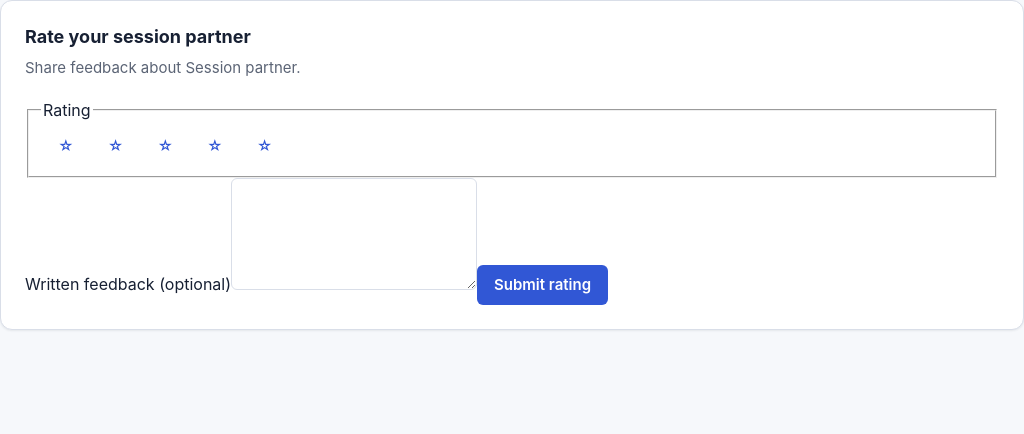
Test: RatingPanel › shows a safe error state when submission fails
Click the button named "Rate 5 out of 5" at [265, 146], box [240,126,290,166]
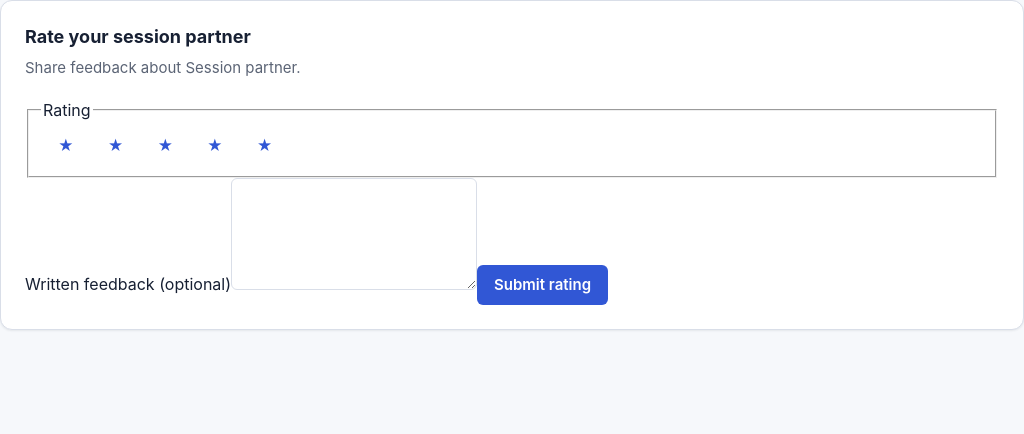
Click the button "Submit rating" at [542, 284], box [477,264,608,304]
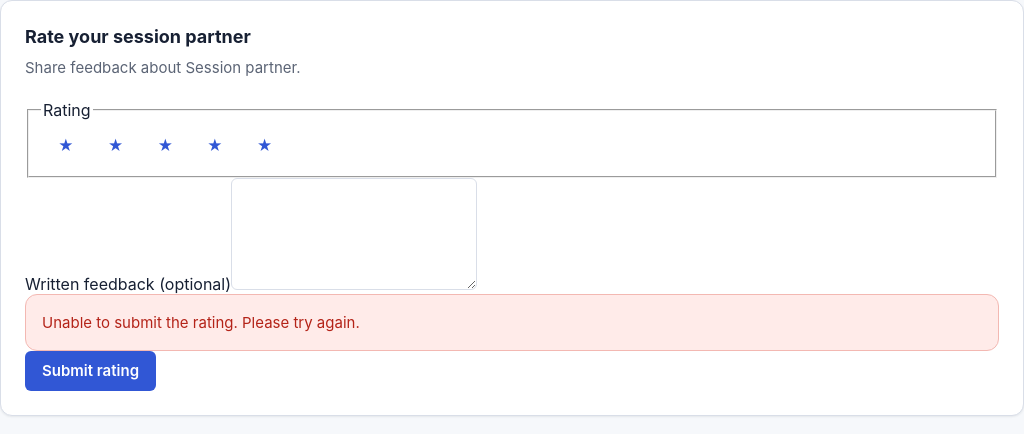
Result: the text "Unable to submit the rating. Please try again." is shown at [42,312,360,332]
